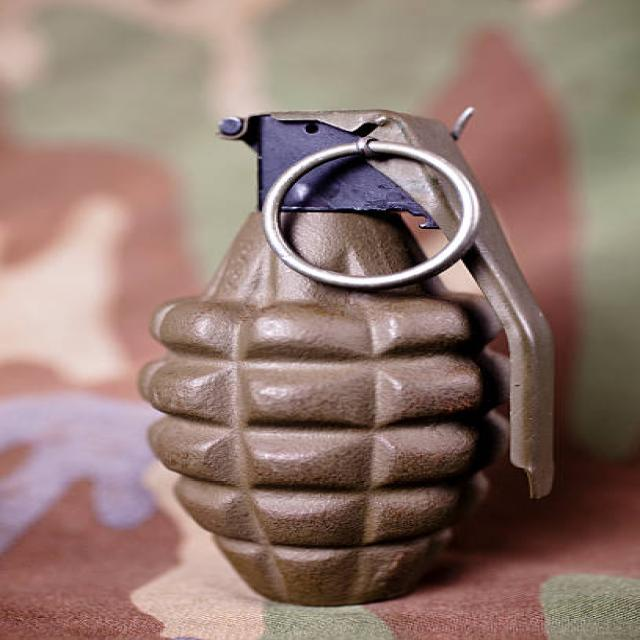grenade: (127, 91, 572, 617)
